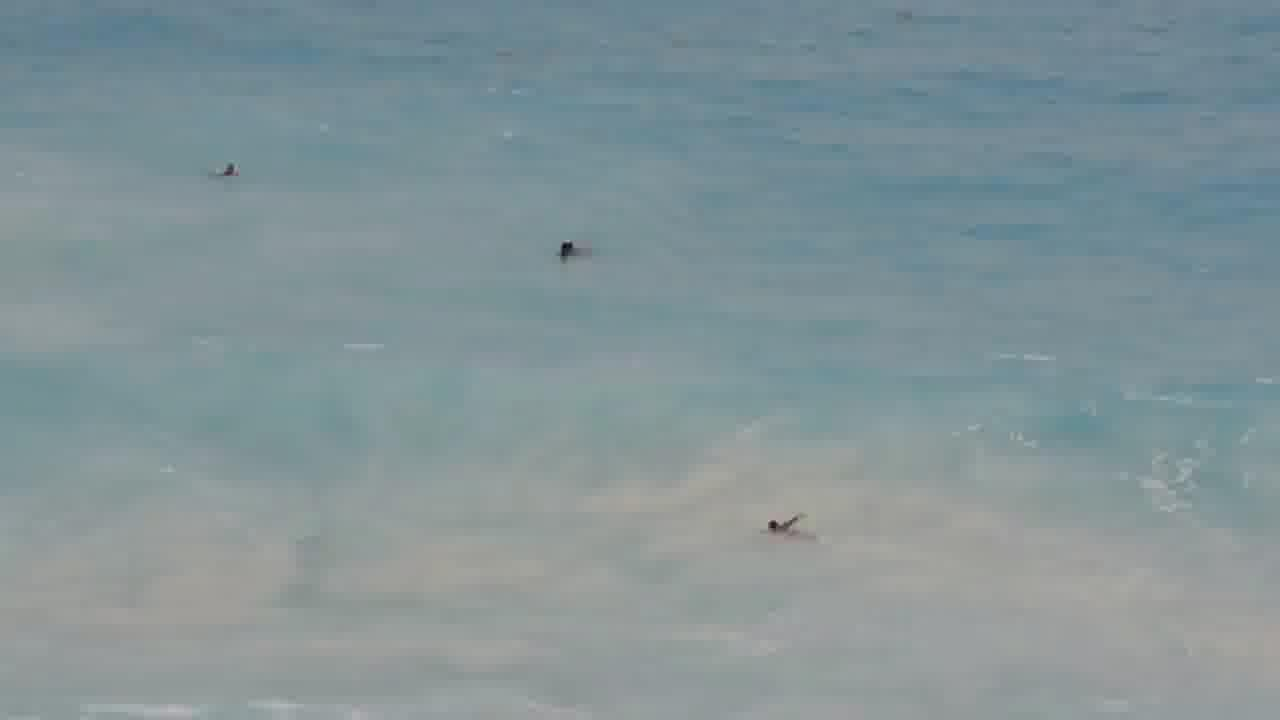human: (754, 511, 810, 540), (551, 232, 590, 261), (217, 152, 242, 187)
